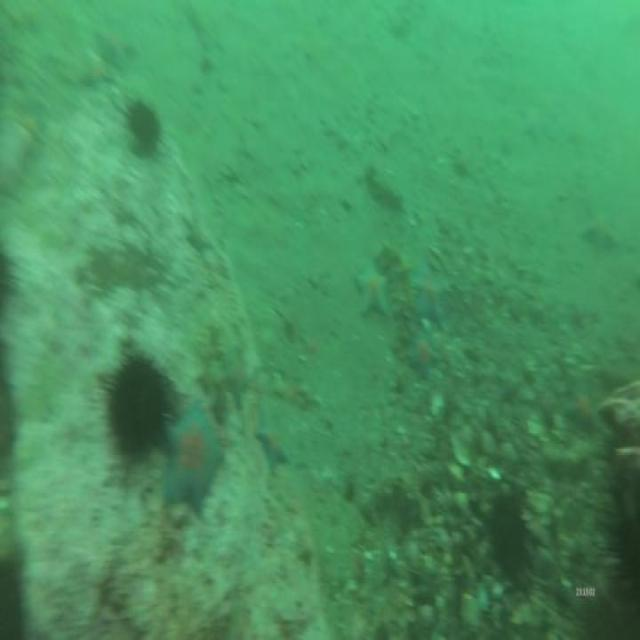echinus: (97, 340, 179, 480), (485, 480, 531, 585), (122, 90, 164, 155)
holothurian: (366, 160, 406, 218)
starfish: (162, 396, 225, 516), (409, 262, 450, 330), (256, 408, 291, 471), (565, 382, 600, 433), (355, 268, 389, 318), (407, 335, 438, 382)
